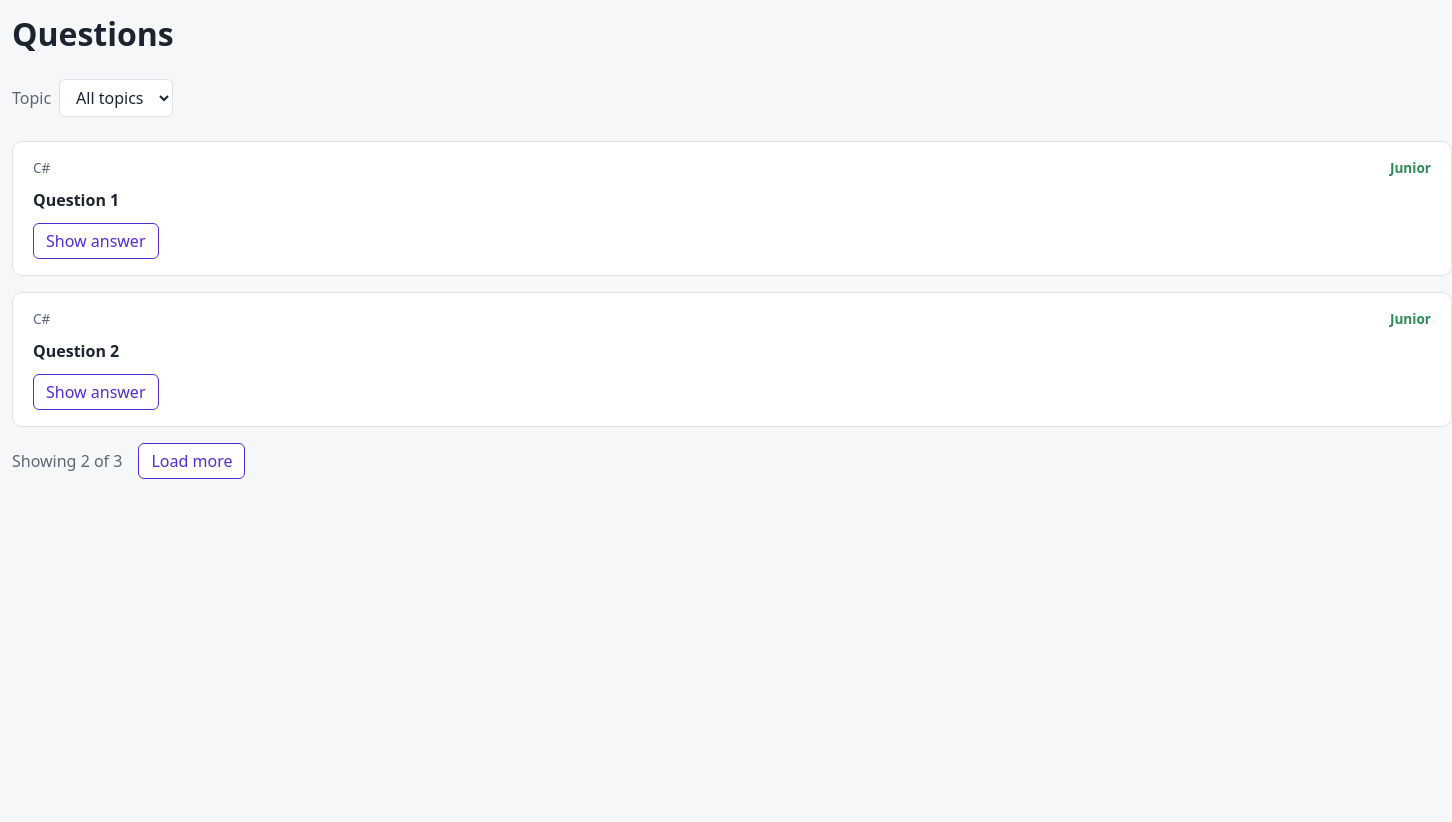
Test case: QuestionsPage › loads the next page from the end of the shown list and hides the button when done
What coordinates should you click on to do the following:
click the button "Load more"
I would click on:
 (192, 461)
Its box is [138,443,246,479].
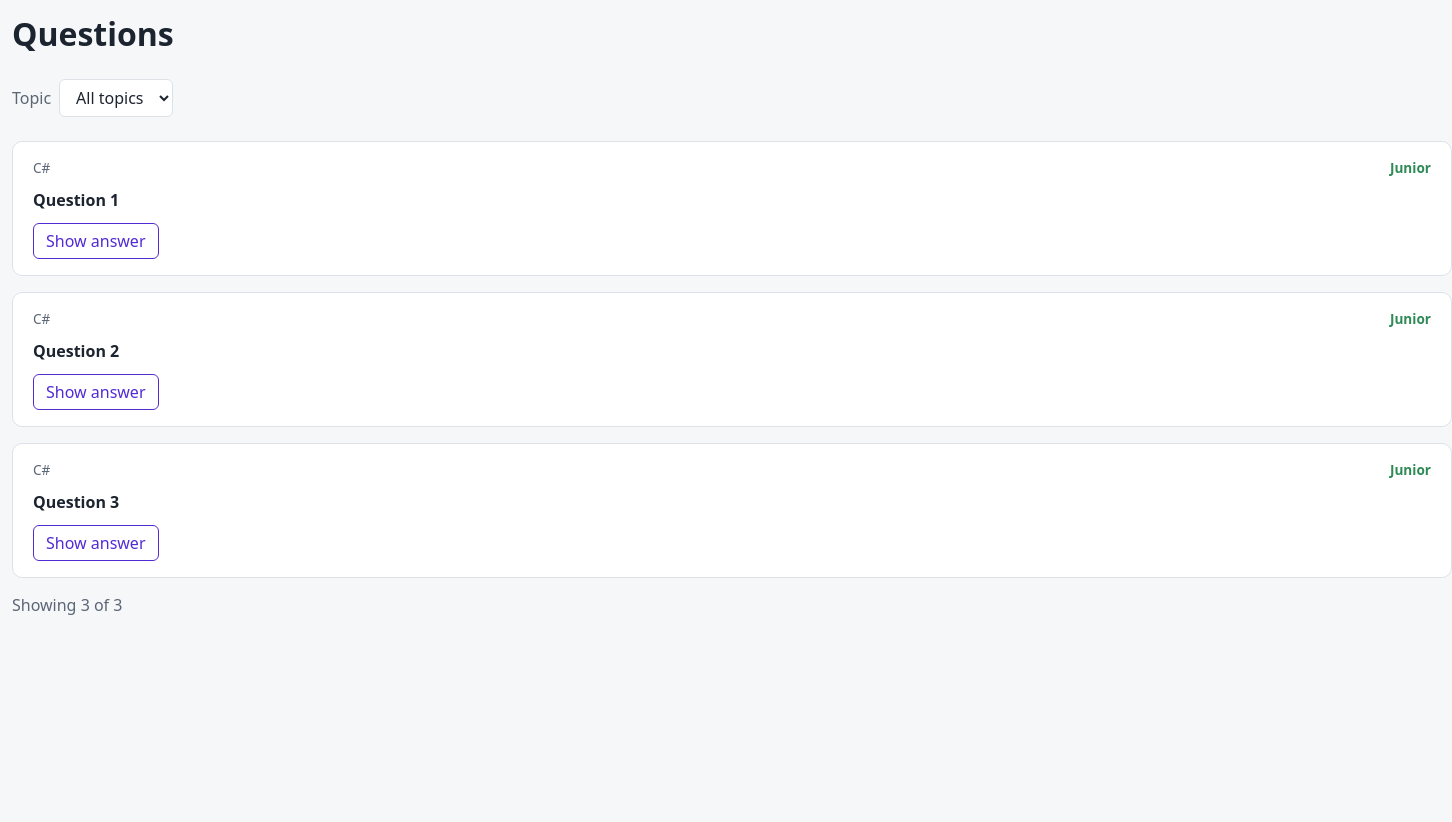
Expected: the text "Question 3" is shown, [33,491,119,513]
Expected: the text "Showing 3 of 3" is shown, [12,594,122,616]
Expected: the button "Load more" is gone
